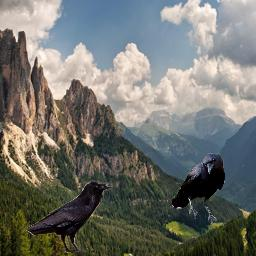Crow: (23, 179, 113, 253), (172, 153, 225, 226)
